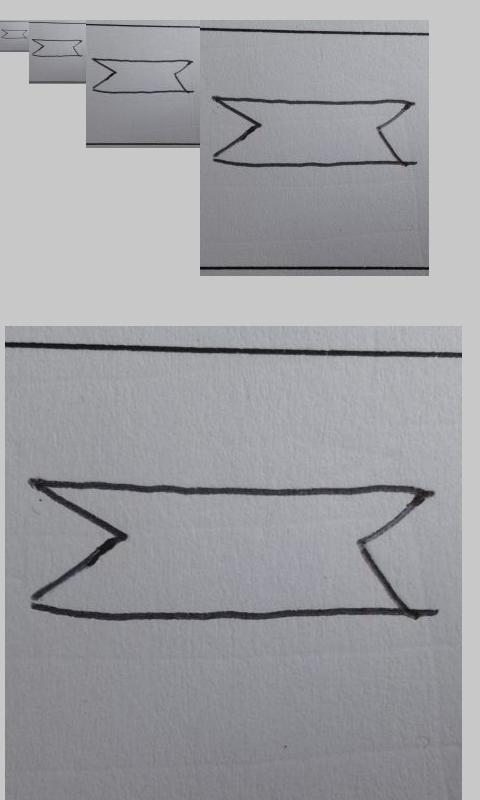edit_text: (29, 476, 428, 625), (212, 96, 409, 167), (91, 58, 191, 94), (32, 39, 81, 58), (1, 29, 28, 39)
